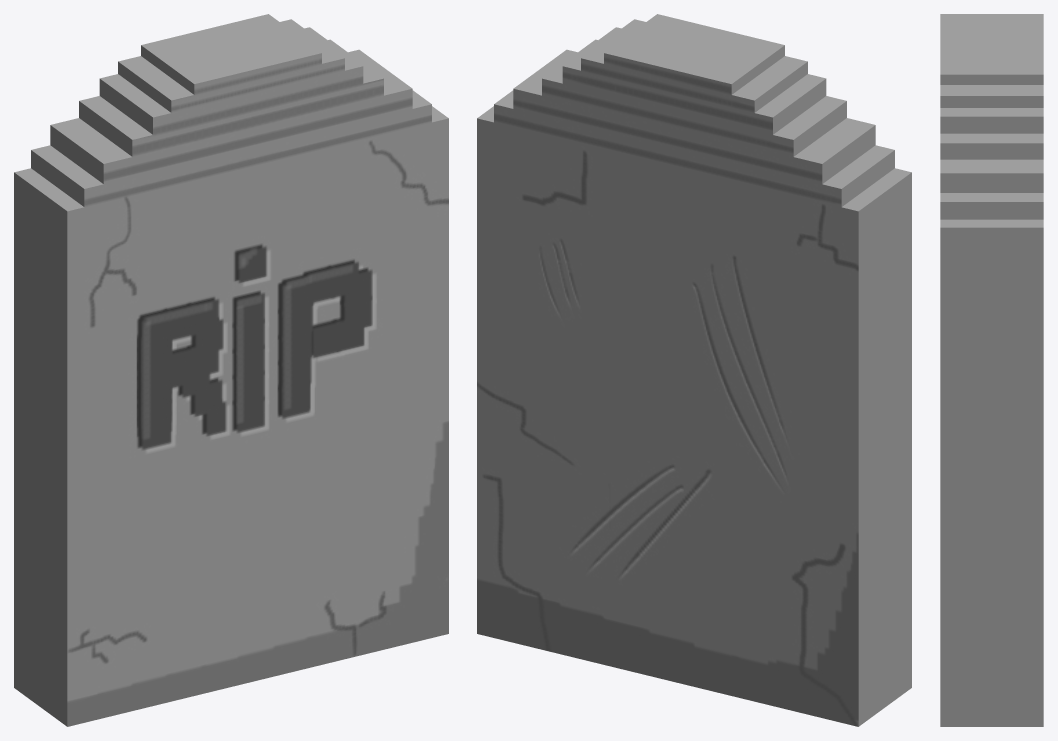
Rendered from cep_02.fbx.
3 renders of one model, left to right at view 1: azimuth 30°, elevation 25°; view 2: azimuth 150°, elevation 25°; view 3: azimuth 270°, elevation 25°, orthographic. The views are drawn at different scales.
Parts seen in each view (by area): view 1: pCube13; view 2: pCube13; view 3: pCube13.
Boxes of the visible parts, x1,y1,x2,y2 form: pCube13: (14, 14, 448, 726); pCube13: (477, 14, 911, 726); pCube13: (940, 14, 1043, 726).
Bounding box in the file's own units: 5.1 × 7.82 × 1.24.
1 material, 1 textured.
